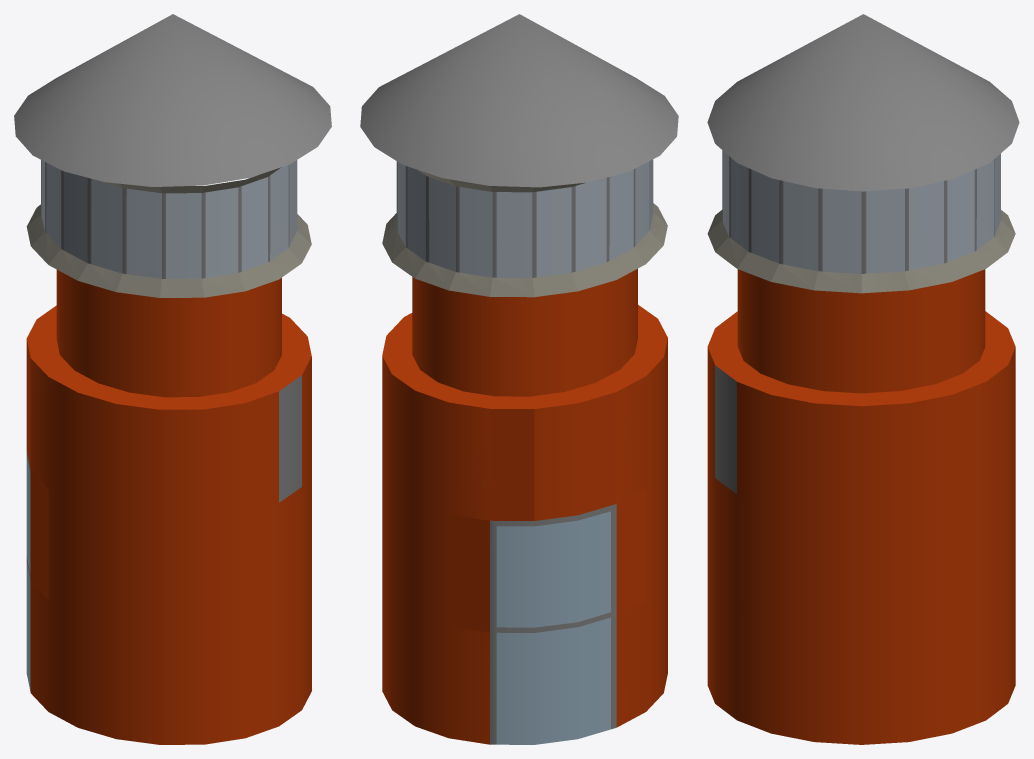
Rendered from lighthouse.glb.
3 views of the same model, side by side, from view 1: azimuth 30°, elevation 25°; view 2: azimuth 150°, elevation 25°; view 3: azimuth 270°, elevation 25° (orthographic).
Visible parts, largest first — view 1: pCylinder1, pCone1; view 2: pCylinder1, pCone1; view 3: pCylinder1, pCone1.
Part boxes in pixels (x1=…): pCylinder1: x1=26, y1=160, x2=311, y2=744; pCone1: x1=14, y1=14, x2=331, y2=186; pCylinder1: x1=382, y1=159, x2=667, y2=744; pCone1: x1=360, y1=14, x2=678, y2=187; pCylinder1: x1=707, y1=150, x2=1015, y2=744; pCone1: x1=707, y1=14, x2=1019, y2=191.
Size of the model in its own units: 2.04 by 4.62 by 1.94.
